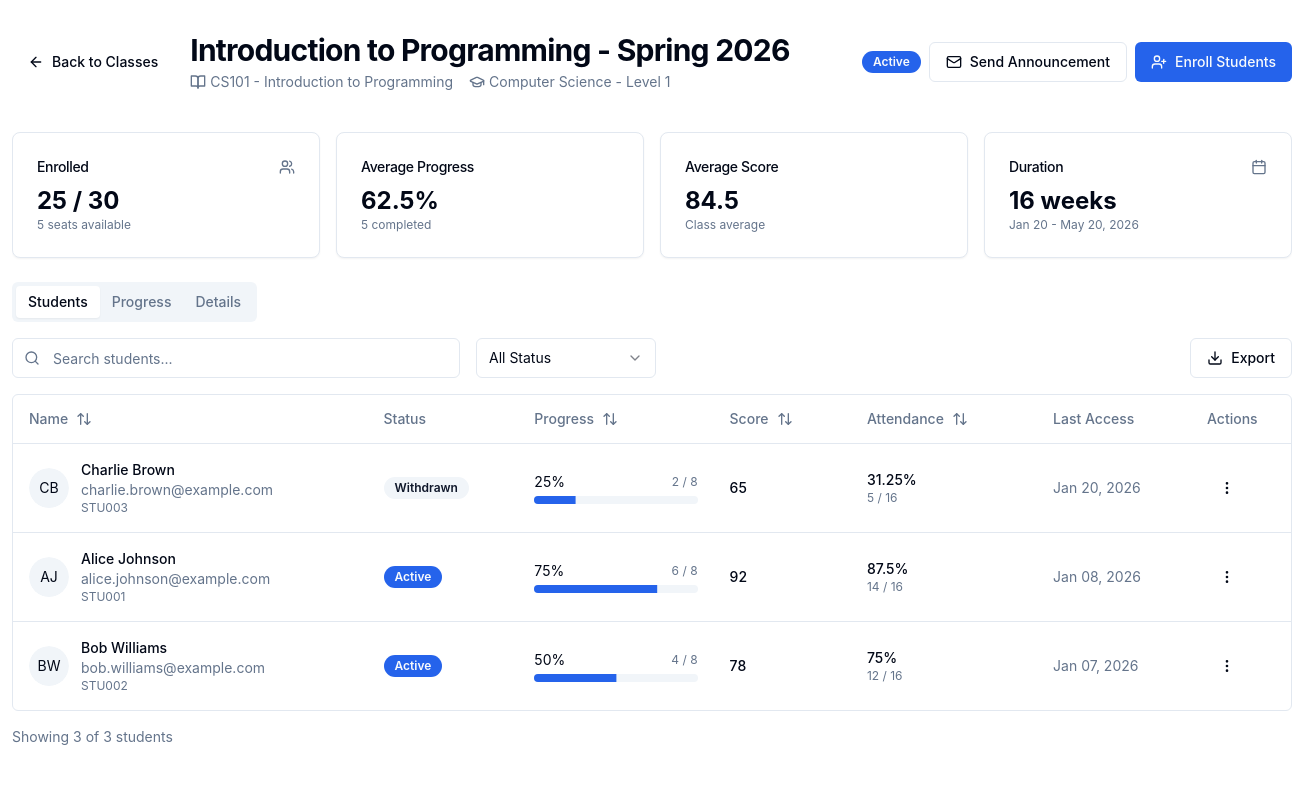
Scenario: ClassDetailsPage › displays instructor information
Click on Details tab to see instructor info
Click the tab "Details".
click(218, 302)  # box x1=183 y1=286 x2=253 y2=318
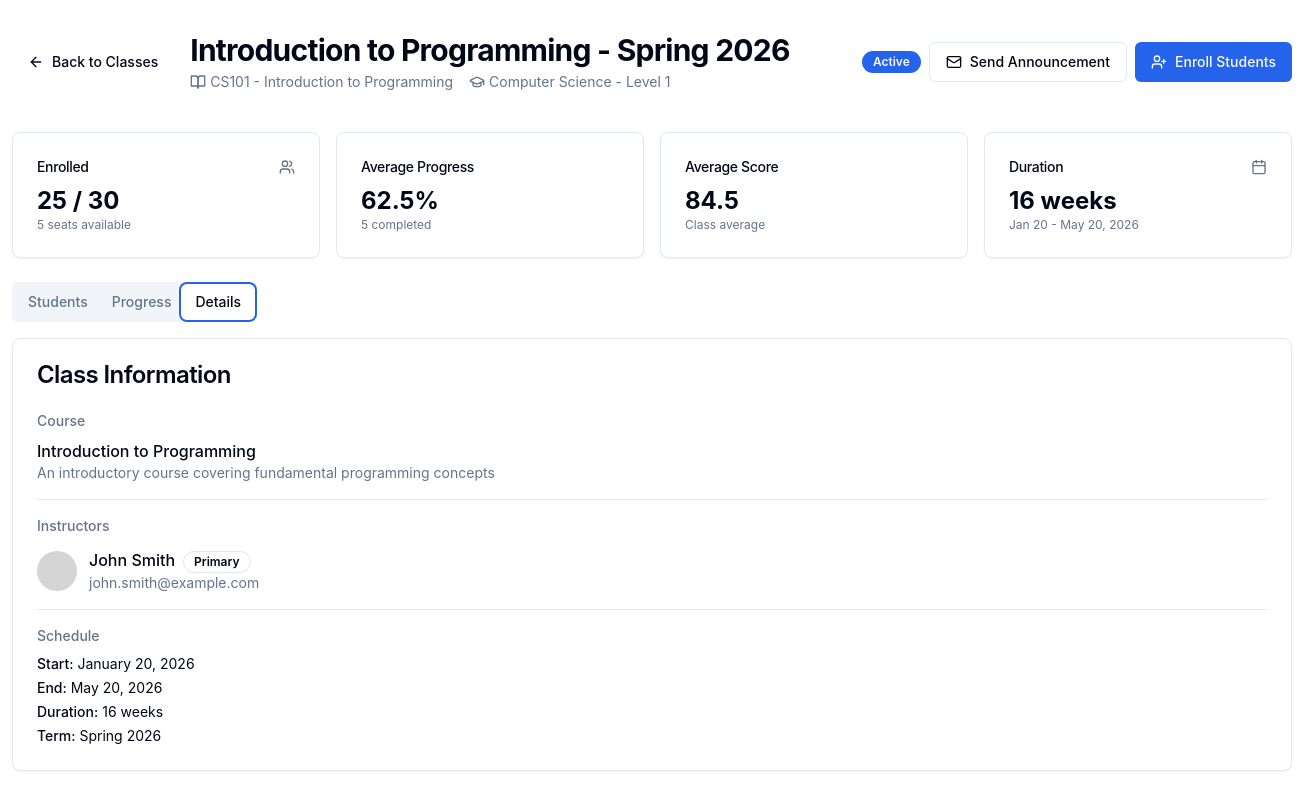
Result: the text "john.smith@example.com" is shown at x1=89 y1=573 x2=259 y2=593
